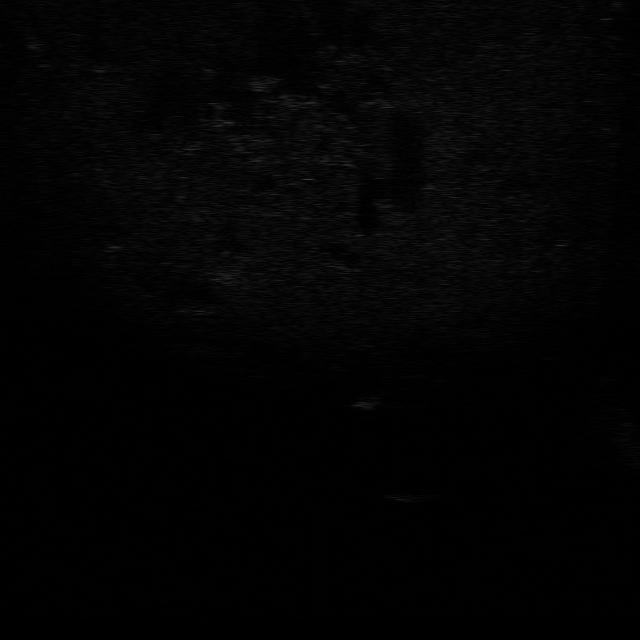cube: (382, 486, 432, 504)
square cage: (350, 386, 388, 413)
